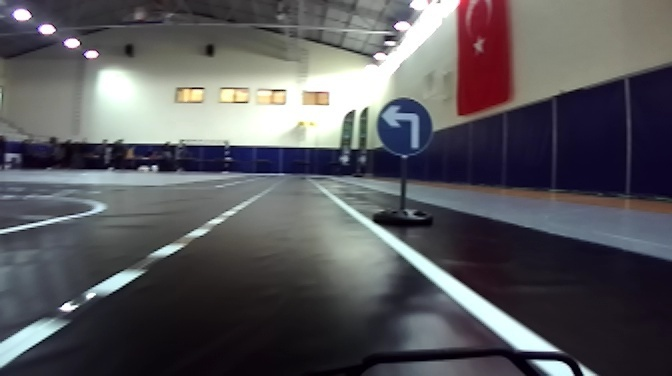sola_donus: (373, 98, 438, 155)
